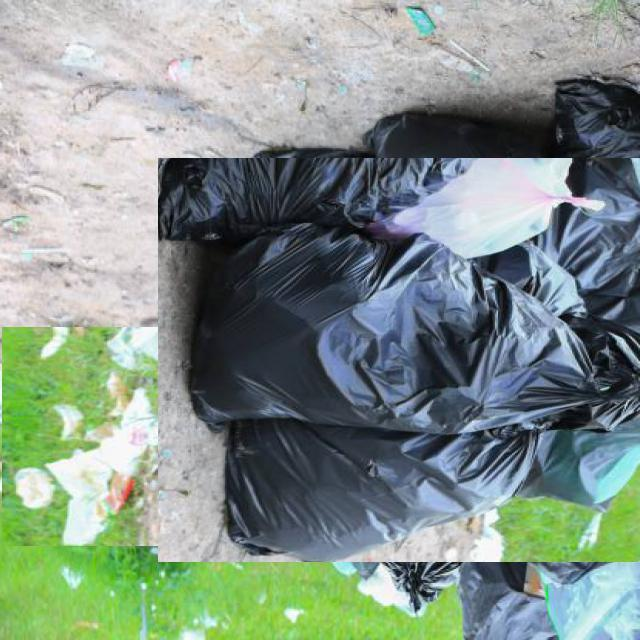Trashbag: (192, 228, 598, 437), (223, 423, 528, 564), (154, 155, 473, 244)
